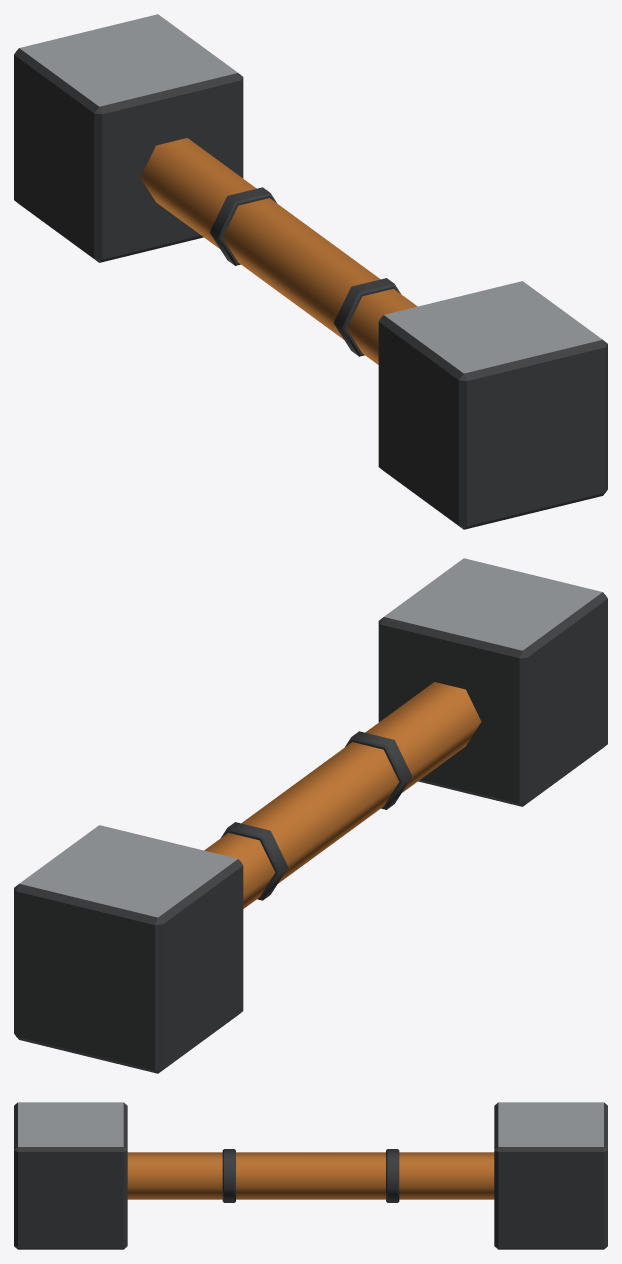
The model's file is R4C_STRUT_LONG_LOD1.fbx.
3 renders of one model, top to bottom at view 1: azimuth 30°, elevation 25°; view 2: azimuth 150°, elevation 25°; view 3: azimuth 270°, elevation 25°, orthographic. The views are drawn at different scales.
Parts seen in each view (by area): view 1: R4C_STRUT_LONG_LOD1; view 2: R4C_STRUT_LONG_LOD1; view 3: R4C_STRUT_LONG_LOD1.
Part boxes in pixels (x1,y1,x2,y2): R4C_STRUT_LONG_LOD1: (14, 14, 607, 529); R4C_STRUT_LONG_LOD1: (14, 558, 607, 1073); R4C_STRUT_LONG_LOD1: (14, 1102, 607, 1249).
Size of the model in its own units: 0.52 by 0.52 by 2.72.
